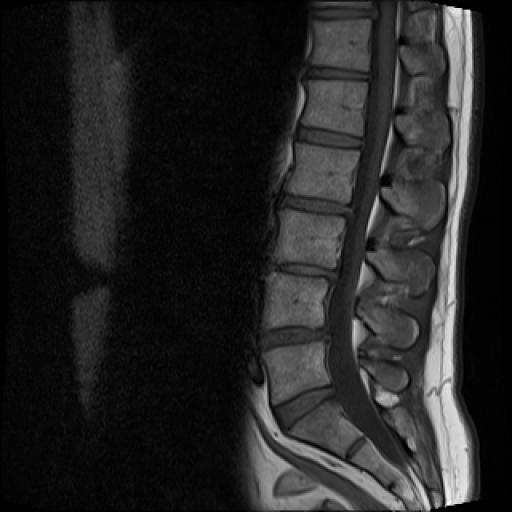L1: (302, 80, 367, 136)
L2: (287, 143, 359, 204)
L3: (275, 210, 345, 268)
L4: (265, 273, 328, 328)
L5: (263, 341, 330, 404)
S1: (287, 399, 363, 458)
